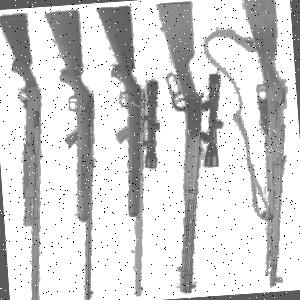rifle: (153, 0, 235, 295), (223, 0, 297, 294), (42, 9, 106, 300)
sniper: (90, 5, 172, 296)
